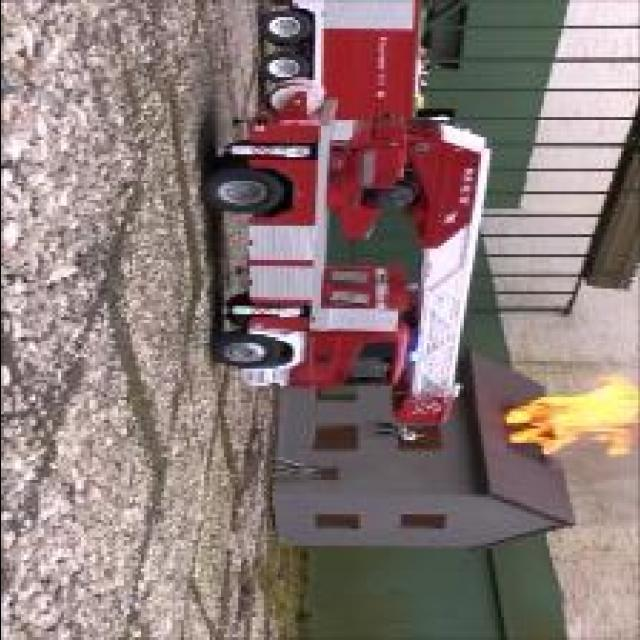Fire: (504, 377, 636, 457)
